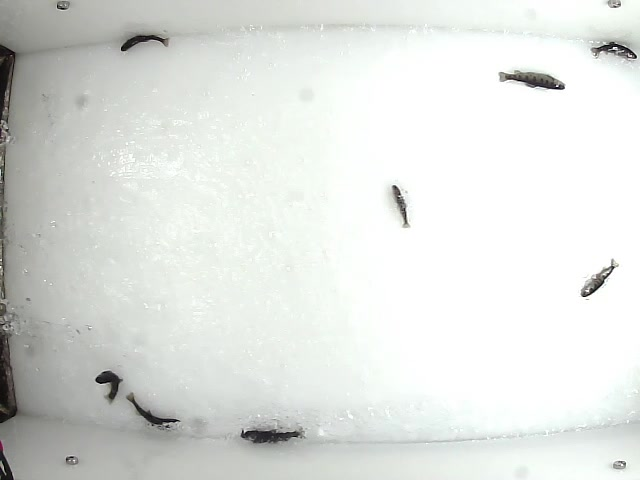fish: (124, 392, 184, 430), (494, 70, 566, 94), (580, 256, 621, 298), (237, 426, 307, 447), (116, 32, 173, 56), (387, 182, 414, 231), (94, 367, 123, 406), (586, 41, 636, 61)
